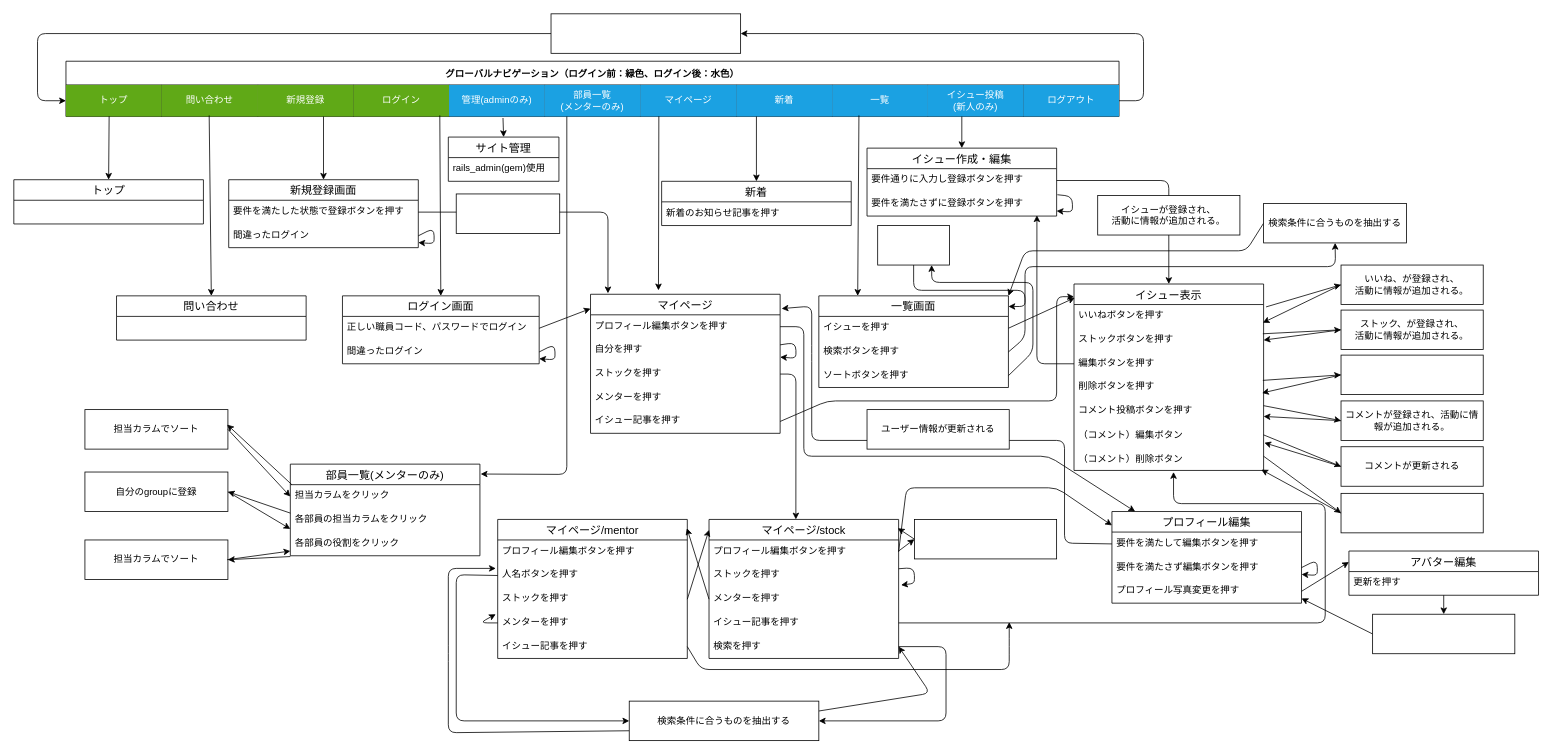
Image size: 1552x754. Some labels were removed from this diagram. Here are the shapes that lost their labels. From the top down, the centre of each, then its label:
At (645,33): "current_user情報が削除され、 ログアウト状態になる。".
At (507,213): "ユーザー登録される".
At (913,245): "ソートされる".
At (1411,374): "イシュー、それに付随するいいね、ストック、コメント削除".
At (1411,513): "コメントが削除される".
At (985,539): "stockされたものの中で、 その人名のものを表示".
At (1443,633): "アバターが更新される".
